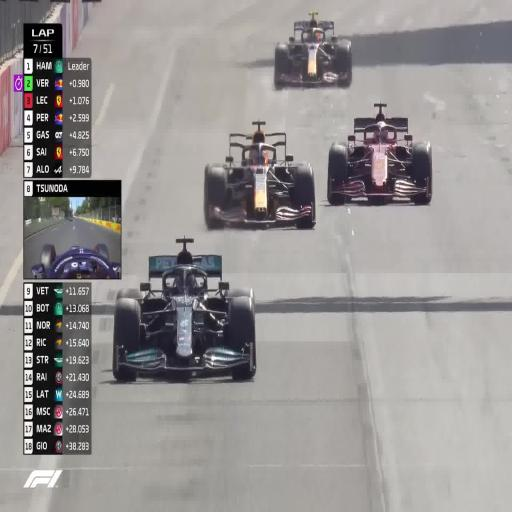f1_car: (113, 238, 256, 380), (204, 121, 315, 229), (327, 103, 432, 204), (274, 12, 352, 89), (31, 244, 121, 278)
